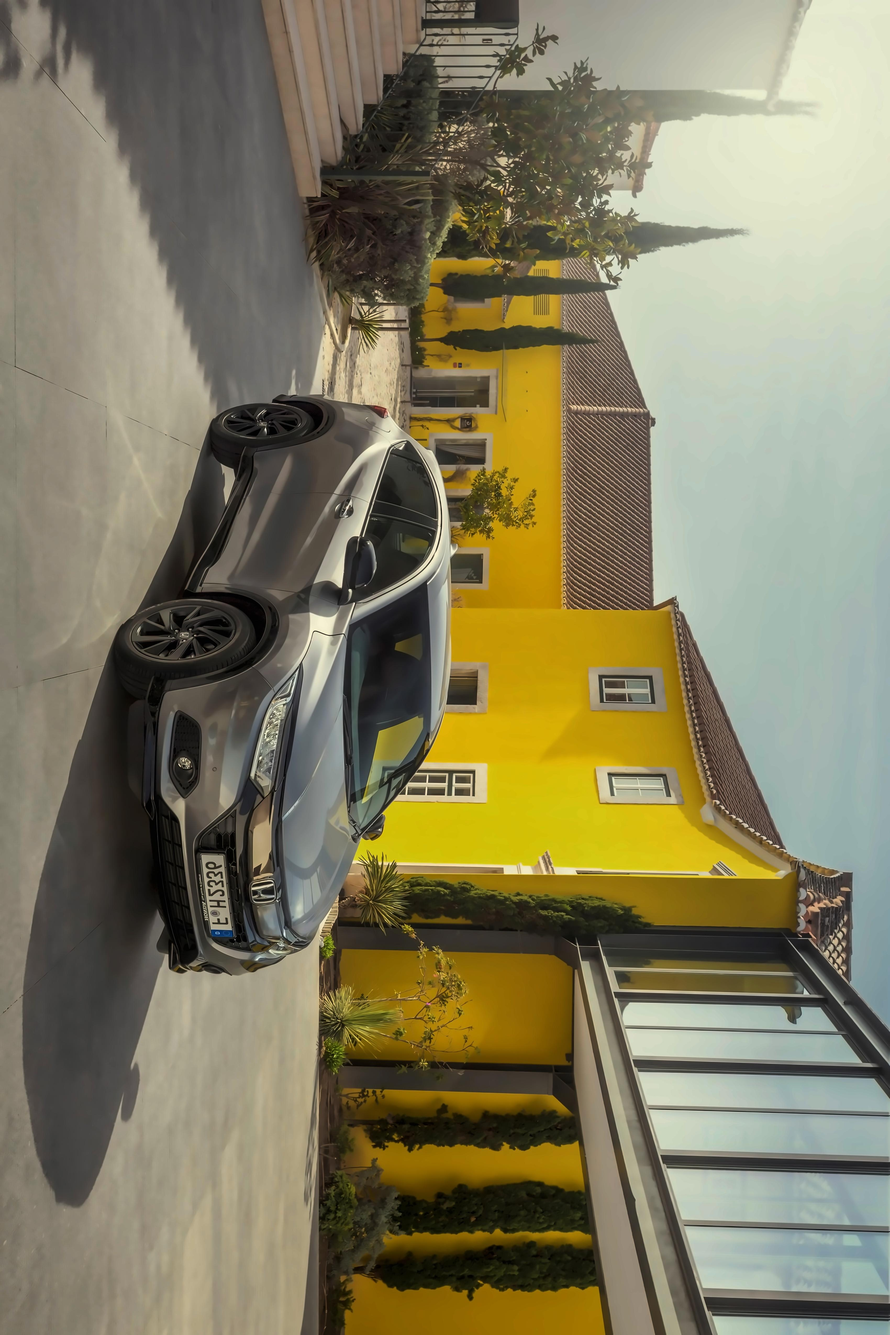Car hood: (271, 623, 362, 947)
Driver-s door - -F-R-: (198, 491, 446, 597)
Fender - -F-R-: (185, 587, 357, 695)
Fender - -R-R-: (295, 393, 400, 446)
Front bumper: (130, 652, 275, 985)
Headlight - -L-: (251, 915, 314, 960)
Headlight - -R-: (245, 661, 308, 804)
Passenger-s door - -R-R-: (230, 448, 440, 520)
Rear light - -R-: (360, 397, 396, 427)
Side bumper - -R-: (174, 439, 263, 609)
Side mirror - -L-: (354, 805, 390, 846)
Side mirror - -R-: (337, 525, 382, 613)
